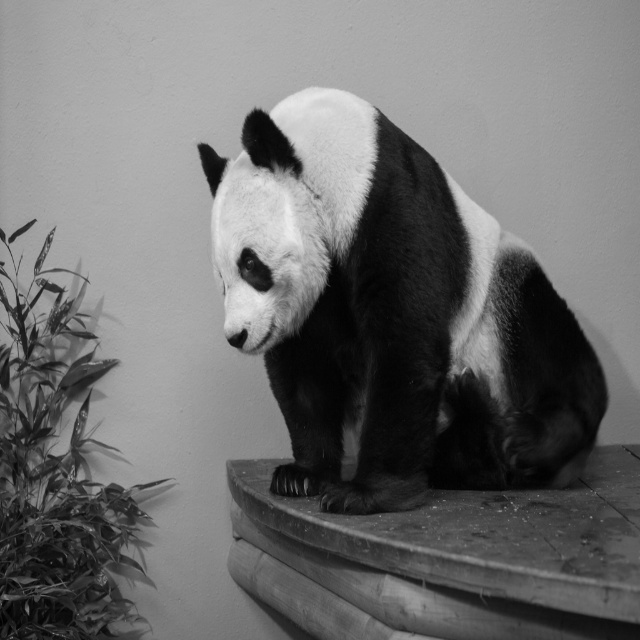Panda: (196, 82, 609, 514)
